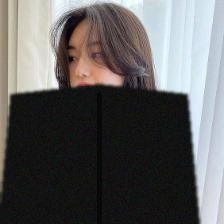Cadar_Niqab: (0, 1, 199, 224)
